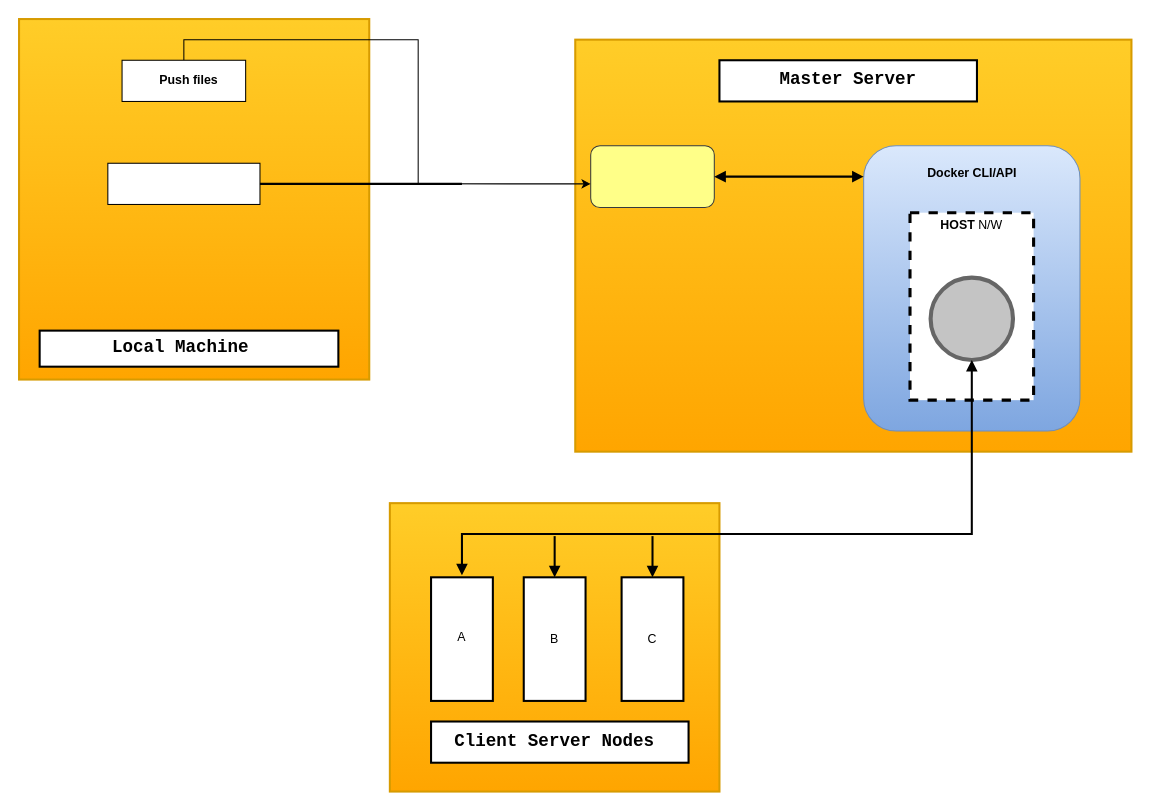
This 1149x810 diagram has some shape labels left out. Here are the shapes that lost their labels. From the top down, the centre of each, then its label:
At point 183,183: "Create/Build Container".
At point 652,176: "Flask API".
At point 971,318: "Ansible Container SSH Keys".
